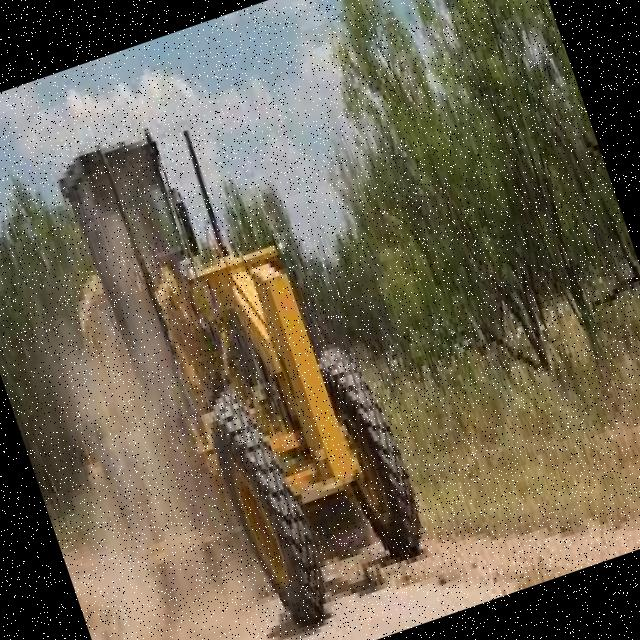Grader: (0, 53, 458, 640)
